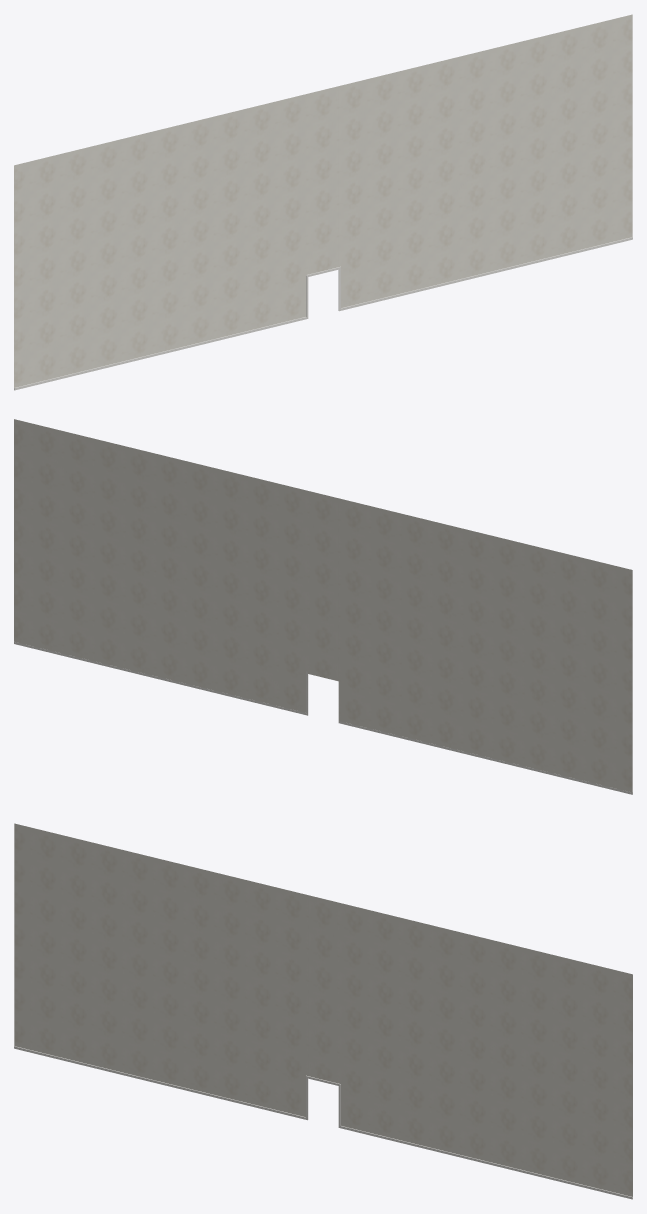
3 views of the same model, one above another, from view 1: azimuth 30°, elevation 25°; view 2: azimuth 150°, elevation 25°; view 3: azimuth 330°, elevation 25° (orthographic).
Visible parts, largest first — view 1: jx_wm_40_110d6807; view 2: jx_wm_40_110d6807; view 3: jx_wm_40_110d6807.
Part boxes in pixels (x1=…): jx_wm_40_110d6807: x1=14, y1=14, x2=632, y2=390; jx_wm_40_110d6807: x1=14, y1=419, x2=632, y2=794; jx_wm_40_110d6807: x1=14, y1=823, x2=632, y2=1199.
Size of the model in its own units: 40.3 by 14 by 0.05.
2 materials, 2 textured.
